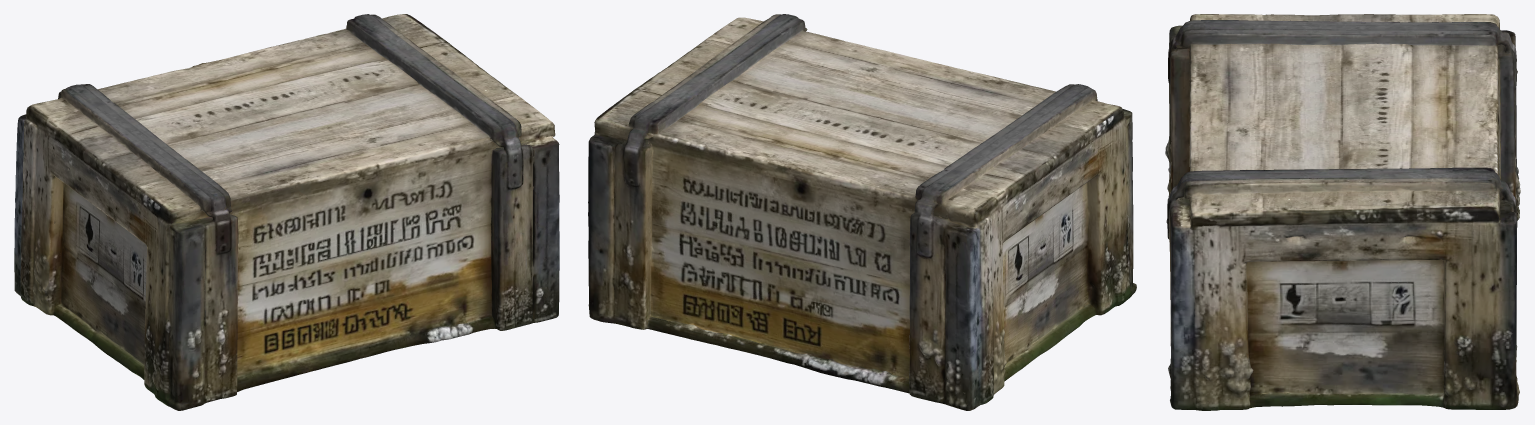
File: floating crate.glb
3 renders of one model, left to right at view 1: azimuth 30°, elevation 25°; view 2: azimuth 150°, elevation 25°; view 3: azimuth 270°, elevation 25°, orthographic. The views are drawn at different scales.
Visible parts, largest first — view 1: geometry_0; view 2: geometry_0; view 3: geometry_0.
Part boxes in pixels (x1=…): geometry_0: x1=14, y1=14, x2=559, y2=410; geometry_0: x1=588, y1=14, x2=1136, y2=410; geometry_0: x1=1165, y1=14, x2=1520, y2=410.
Bounding box in the file's own units: 1 × 0.49 × 0.7415.
Materials: 1 (1 with a texture image).
